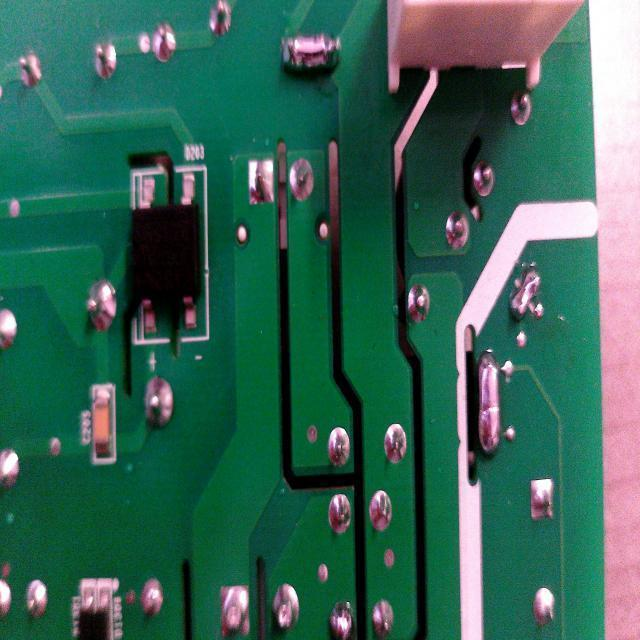Soldering shorted: (472, 342, 506, 475), (275, 23, 346, 82), (508, 258, 542, 332)
